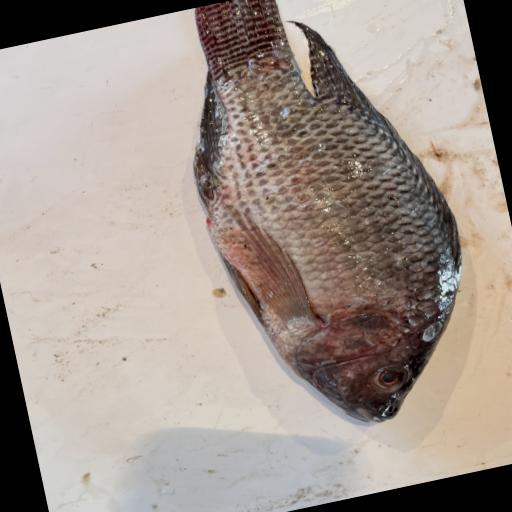Tilapia: (159, 0, 494, 450)
